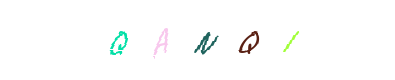A: (157, 0, 237, 80)
I: (209, 0, 289, 80)
N: (165, 0, 245, 80)
Q: (79, 0, 159, 80), (196, 0, 276, 80)
